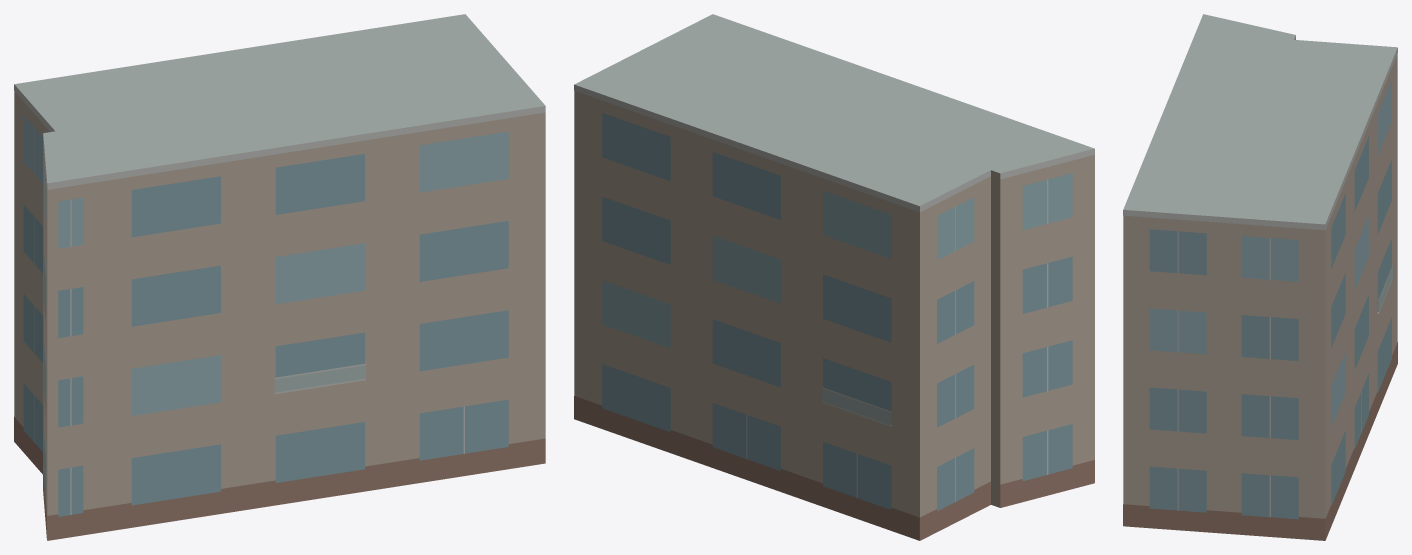
Rendered from survey-upis-32616096.glb.
3 renders of one model, left to right at view 1: azimuth 30°, elevation 25°; view 2: azimuth 150°, elevation 25°; view 3: azimuth 270°, elevation 25°, orthographic. The views are drawn at different scales.
Parts seen in each view (by area): view 1: survey-upis-32616096.tmp; view 2: survey-upis-32616096.tmp; view 3: survey-upis-32616096.tmp.
Boxes of the visible parts, x1,y1,x2,y2 form: survey-upis-32616096.tmp: [14, 14, 545, 540]; survey-upis-32616096.tmp: [574, 14, 1094, 540]; survey-upis-32616096.tmp: [1123, 14, 1397, 540].
Size of the model in its own units: 19.12 by 13.4 by 10.55.
